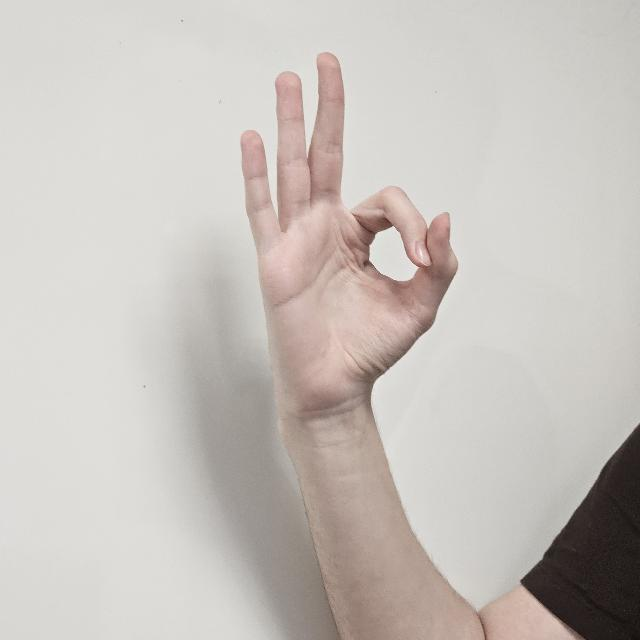Bolinha: (233, 51, 462, 451)
